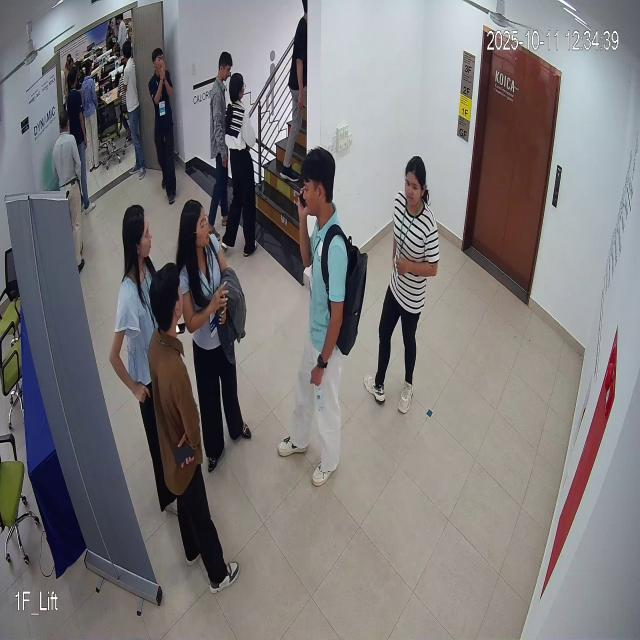face: (295, 146, 344, 228), (122, 196, 160, 274), (178, 195, 214, 257), (402, 148, 431, 220)
